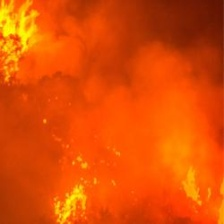fire: (1, 2, 37, 76), (182, 170, 224, 221), (55, 184, 87, 220)
